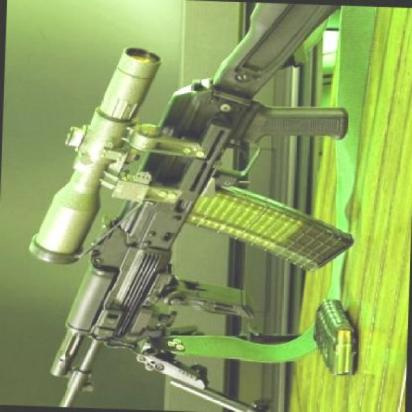Gun: (5, 7, 366, 412)
